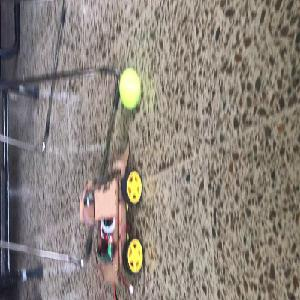Ball: (117, 68, 142, 109)
Robot: (80, 142, 144, 290)
